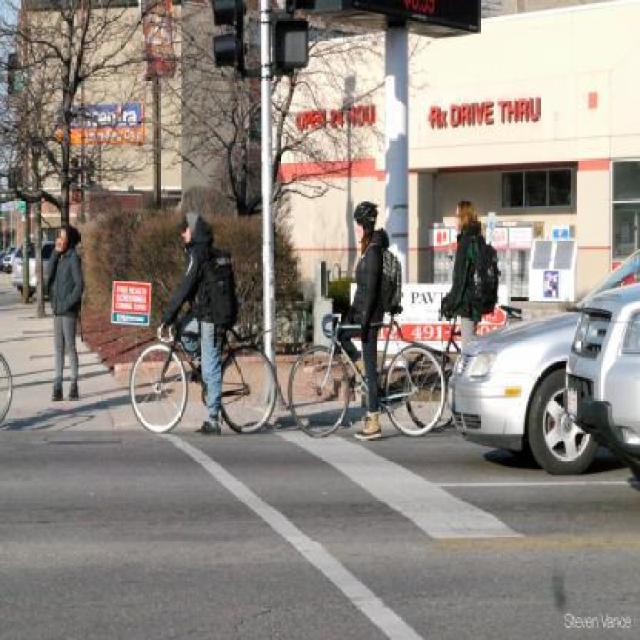Person: (162, 205, 228, 438), (336, 195, 396, 448), (438, 195, 490, 352), (53, 218, 84, 398)
